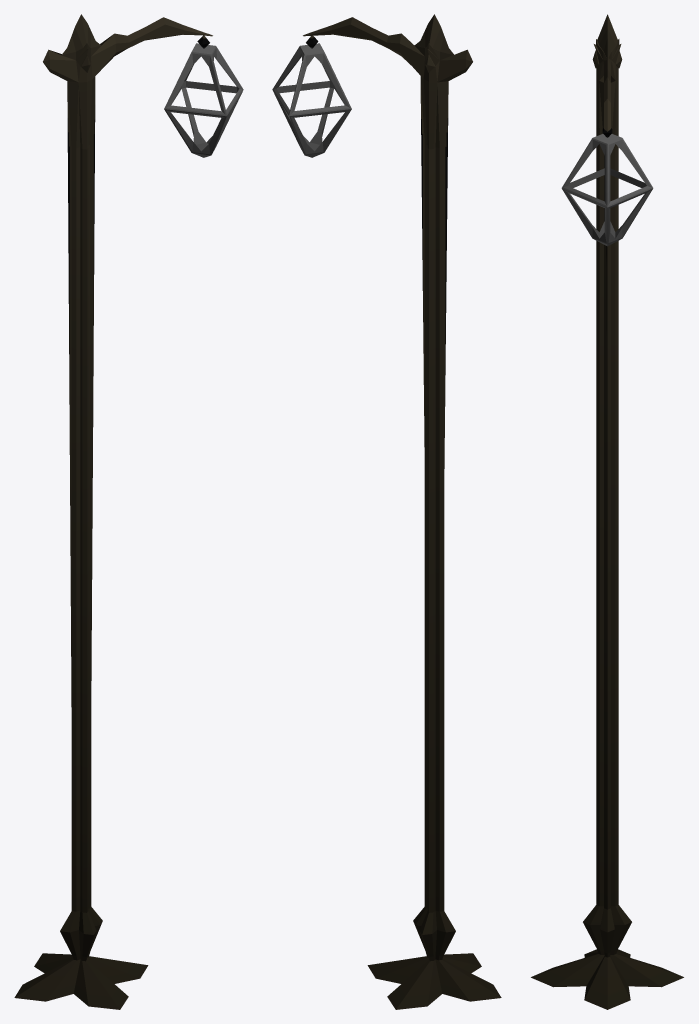
File: ruraltown_street_lamp_simple.fbx
The picture shows the model from 3 angles, left to right: view 1: azimuth 30°, elevation 25°; view 2: azimuth 150°, elevation 25°; view 3: azimuth 270°, elevation 25°; orthographic projection.
Visible parts, largest first — view 1: SimpleLamp; view 2: SimpleLamp; view 3: SimpleLamp.
Part boxes in pixels (left/top/right/bottom): SimpleLamp: left=14, top=14, right=243, bottom=1009; SimpleLamp: left=272, top=14, right=501, bottom=1009; SimpleLamp: left=531, top=14, right=683, bottom=1009.
Bounding box in the file's own units: 74.97 × 302 × 43.87.
